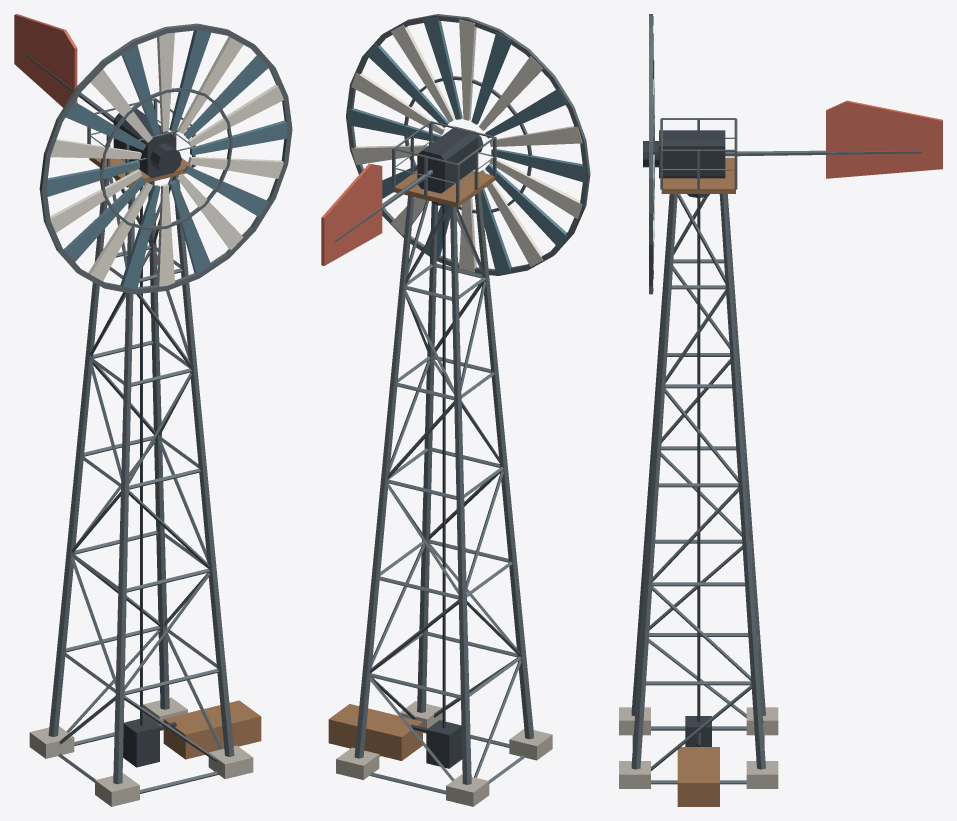
Rendered from RURAL_01.obj.
3 views of the same model, side by side, from view 1: azimuth 30°, elevation 25°; view 2: azimuth 150°, elevation 25°; view 3: azimuth 270°, elevation 25° (orthographic). The views are drawn at different scales.
Parts seen in each view (by area): view 1: rotor_blades, tower, tower_braces, rotor_rings, tail_vane, footings, trough, pump_head, gearbox, pump_rod, rotor_hub, platform_rail (+1 smaller); view 2: rotor_blades, tower, tower_braces, rotor_rings, tail_vane, footings, trough, gearbox, pump_rod, platform_rail, platform, pump_head; view 3: tower, tower_braces, tail_vane, footings, gearbox, trough, pump_rod, platform, platform_rail, rotor_rings, tail_boom, pump_head.
Boxes of the visible parts, <box> form: rotor_blades: <box>46,30,287,289</box>; tower: <box>48,175,234,784</box>; tower_braces: <box>58,176,222,793</box>; rotor_rings: <box>39,23,292,294</box>; tail_vane: <box>14,14,77,107</box>; footings: <box>29,697,253,806</box>; trough: <box>163,700,261,759</box>; pump_head: <box>123,717,159,767</box>; gearbox: <box>113,109,176,178</box>; pump_rod: <box>140,186,142,725</box>; rotor_hub: <box>150,143,181,174</box>; platform_rail: <box>87,98,195,175</box>; rotor_blades: <box>348,17,585,273</box>; tower: <box>354,191,533,784</box>; tower_braces: <box>369,200,524,794</box>; rotor_rings: <box>346,14,590,275</box>; tail_vane: <box>321,163,382,265</box>; footings: <box>336,701,552,806</box>; trough: <box>328,704,422,760</box>; gearbox: <box>417,126,477,193</box>; pump_rod: <box>442,206,445,728</box>; platform_rail: <box>392,121,496,203</box>; platform: <box>394,170,494,207</box>; pump_head: <box>426,720,462,768</box>; tower: <box>631,194,765,769</box>; tower_braces: <box>632,194,764,784</box>; tail_vane: <box>826,100,942,178</box>; footings: <box>619,707,778,788</box>; gearbox: <box>659,130,725,178</box>; trough: <box>677,747,719,806</box>; pump_rod: <box>697,198,700,722</box>; platform: <box>661,157,735,193</box>; platform_rail: <box>660,118,737,189</box>; rotor_rings: <box>649,14,652,294</box>; tail_boom: <box>725,150,922,156</box>; pump_head: <box>685,716,711,746</box>.
Bounding box in the file's own units: 5.3 × 15.19 × 6.1.
